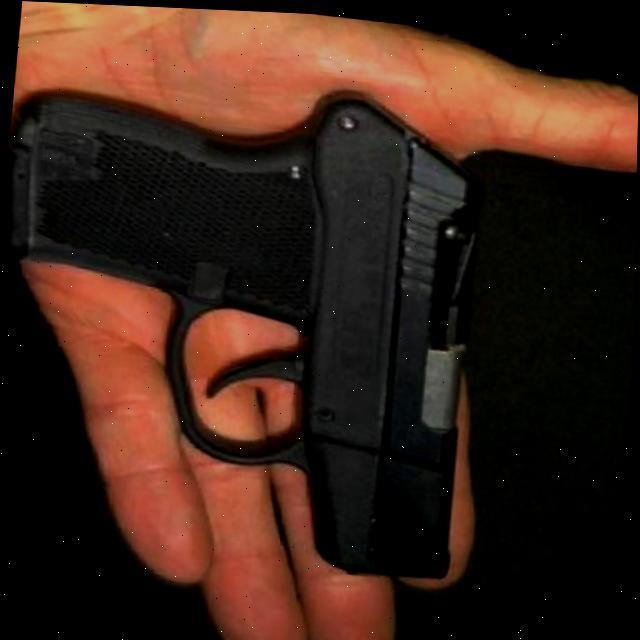gun: (0, 49, 503, 581)
